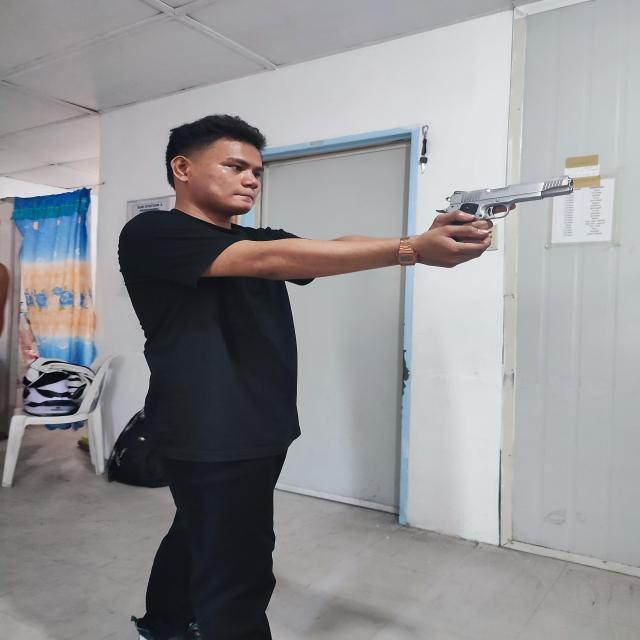pistol: (436, 175, 573, 222)
